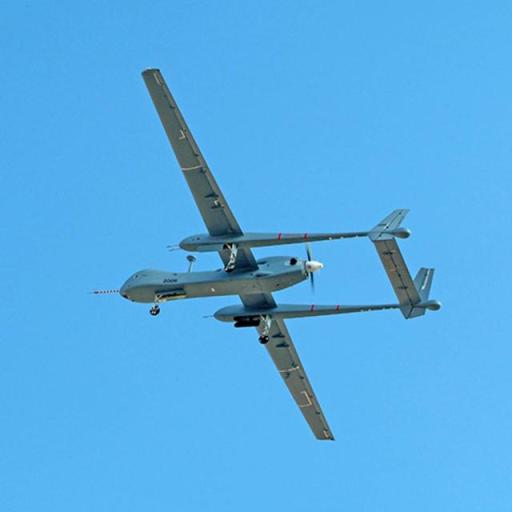uav: (119, 67, 446, 445)
